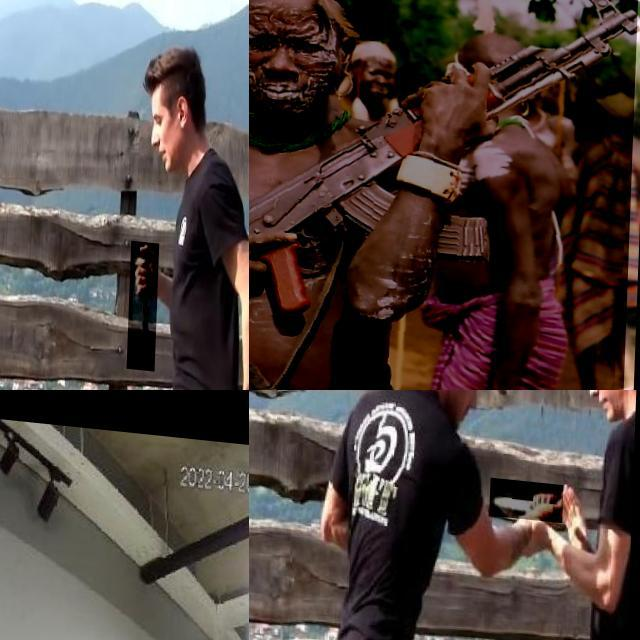-: (130, 232, 162, 362), (492, 467, 566, 510)
gun-knife-thesis - v11 Yolov5 augmented: (249, 0, 638, 390), (398, 353, 635, 390)
